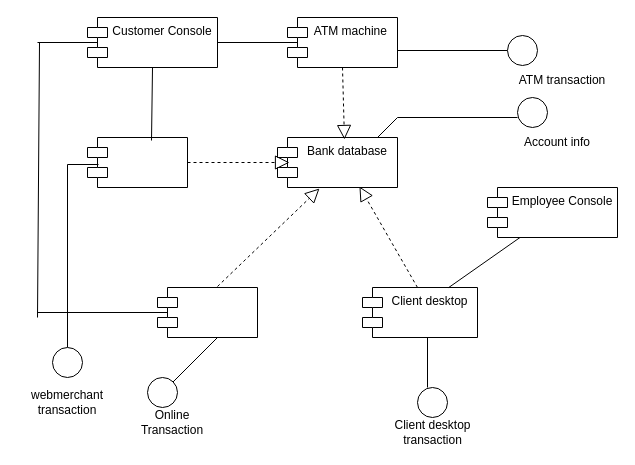
The diagram is 635 pixels wide and 465 high, and some of its shapes have lost their labels. The shapes that lost their labels are listed below. From the top down, each one's box as (x1, y1, x2, y2) in pixels, then its label:
(86, 136, 188, 188): Card reader
(156, 286, 258, 338): Webpage
